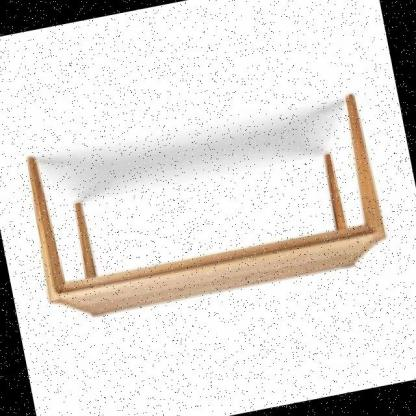Table: (14, 78, 400, 334)
